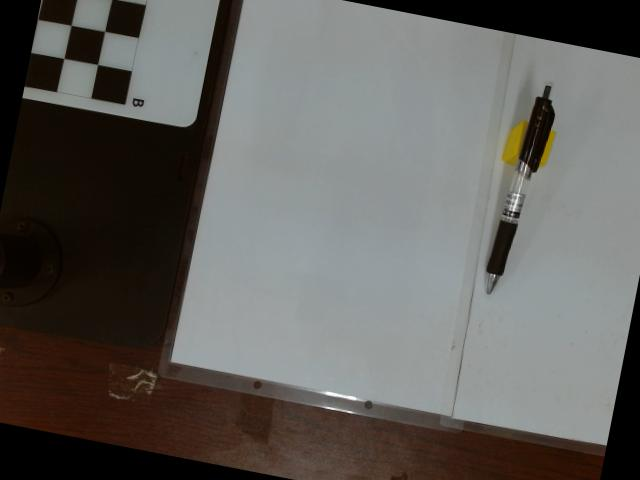PEN: (469, 79, 565, 295)
